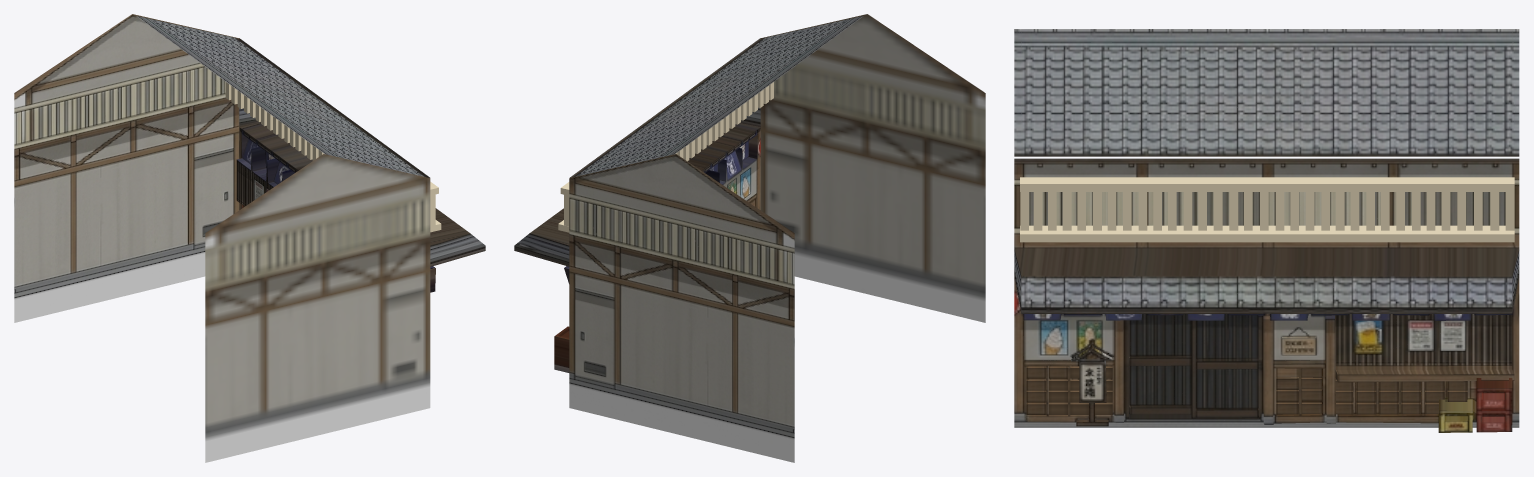
3 views of the same model, side by side, from view 1: azimuth 30°, elevation 25°; view 2: azimuth 150°, elevation 25°; view 3: azimuth 270°, elevation 25° (orthographic). The views are drawn at different scales.
Visible parts, largest first — view 1: Gemini_Generated_Image_bs6141bs6141bs61.050, Gemini_Generated_Image_bs6141bs6141bs61, Gemini_Generated_Image_bs6141bs6141bs61.049, Gemini_Generated_Image_bs6141bs6141bs61.001; view 2: Gemini_Generated_Image_bs6141bs6141bs61, Gemini_Generated_Image_bs6141bs6141bs61.050, Gemini_Generated_Image_bs6141bs6141bs61.049, Gemini_Generated_Image_bs6141bs6141bs61.001; view 3: Gemini_Generated_Image_bs6141bs6141bs61.001, Gemini_Generated_Image_bs6141bs6141bs61.049, Cube.002, Cube.001, Gemini_Generated_Image_bs6141bs6141bs61.005.
Boxes of the visible parts, box(x1,y1,x2,y2) form: Gemini_Generated_Image_bs6141bs6141bs61.050: box(205, 154, 430, 462); Gemini_Generated_Image_bs6141bs6141bs61: box(14, 14, 239, 322); Gemini_Generated_Image_bs6141bs6141bs61.049: box(136, 16, 426, 177); Gemini_Generated_Image_bs6141bs6141bs61.001: box(236, 38, 485, 292); Gemini_Generated_Image_bs6141bs6141bs61: box(569, 154, 794, 462); Gemini_Generated_Image_bs6141bs6141bs61.050: box(760, 14, 985, 322); Gemini_Generated_Image_bs6141bs6141bs61.049: box(573, 16, 863, 177); Gemini_Generated_Image_bs6141bs6141bs61.001: box(514, 38, 760, 372); Gemini_Generated_Image_bs6141bs6141bs61.001: box(1014, 158, 1519, 432); Gemini_Generated_Image_bs6141bs6141bs61.049: box(1014, 29, 1519, 156); Cube.002: box(1020, 225, 1514, 242); Cube.001: box(1020, 177, 1514, 191); Gemini_Generated_Image_bs6141bs6141bs61.005: box(1071, 343, 1112, 426).
Bounding box in the file's own units: 0.4915 × 0.465 × 0.5751.
79 materials, 44 textured.
